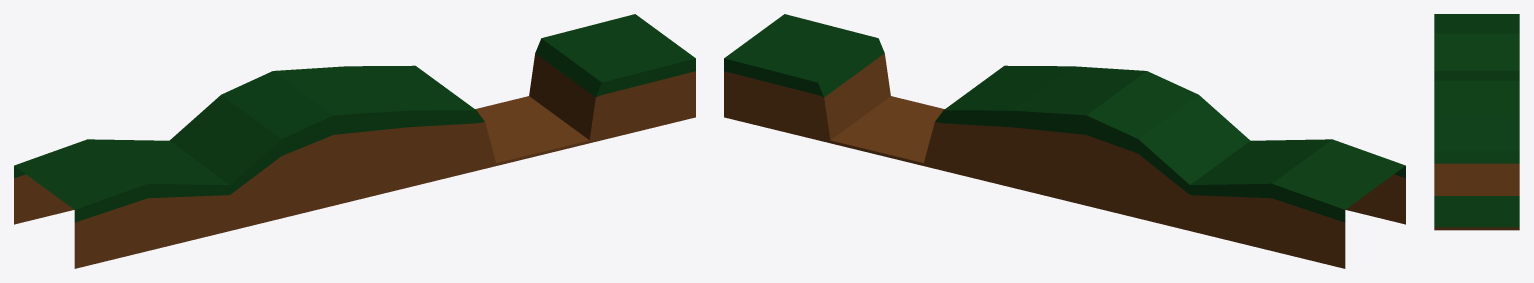
The model's file is terreno2.fbx.
The picture shows the model from 3 angles, left to right: view 1: azimuth 30°, elevation 25°; view 2: azimuth 150°, elevation 25°; view 3: azimuth 270°, elevation 25°; orthographic projection. The views are drawn at different scales.
Parts seen in each view (by area): view 1: terreno02; view 2: terreno02; view 3: terreno02.
Boxes of the visible parts, x1,y1,x2,y2 form: terreno02: (14,14,695,268); terreno02: (724,14,1405,268); terreno02: (1434,14,1519,230).
Bounding box in the file's own units: 2203 × 307 × 372.
